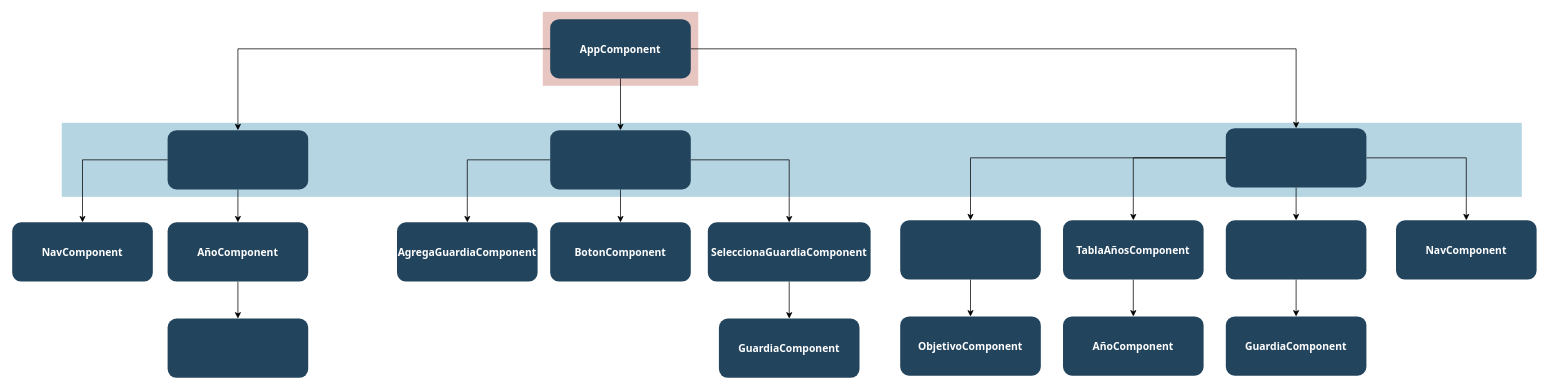
Image size: 1549x390. Some labels were removed from this diagram. The centre of each missing label's shape, as x and y in pixels:
AccesoPrinicipalComponent: the point at 620,159
ConfiguracionComponent: the point at 1295,157
TablaCobroComponent: the point at 237,347
TablaGuardiasComponent: the point at 1295,249
TablaObjetivosComponent: the point at 970,249
TablasCobrosComponent: the point at 237,159
